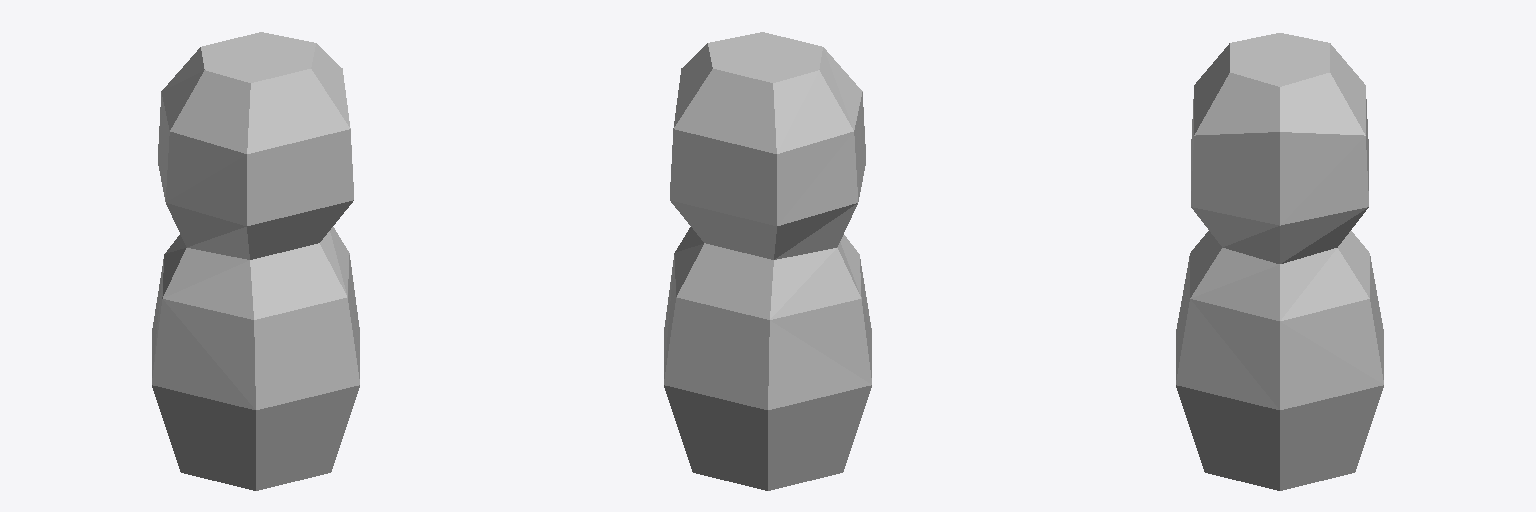
The model's file is ShibuyaCharacter_01.obj.
The picture shows the model from 3 angles: view 1: azimuth 30°, elevation 25°; view 2: azimuth 150°, elevation 25°; view 3: azimuth 270°, elevation 25°; orthographic projection.
Parts seen in each view (by area): view 1: Character_01_Cylinder; view 2: Character_01_Cylinder; view 3: Character_01_Cylinder.
Boxes of the visible parts, <box> form: Character_01_Cylinder: <box>152,32,359,490</box>; Character_01_Cylinder: <box>664,32,871,490</box>; Character_01_Cylinder: <box>1176,33,1383,490</box>.
Size of the model in its own units: 0.8 by 1.45 by 0.6928.